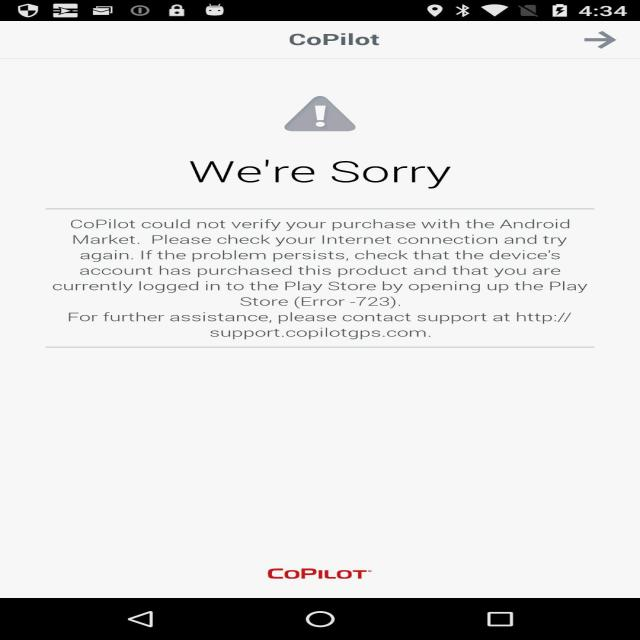icon: (566, 23, 634, 60), (468, 600, 533, 637), (114, 604, 182, 638), (287, 603, 352, 637)
image: (264, 89, 380, 140)
text: (48, 211, 610, 344), (182, 156, 491, 190), (244, 555, 384, 589), (282, 30, 391, 54)
